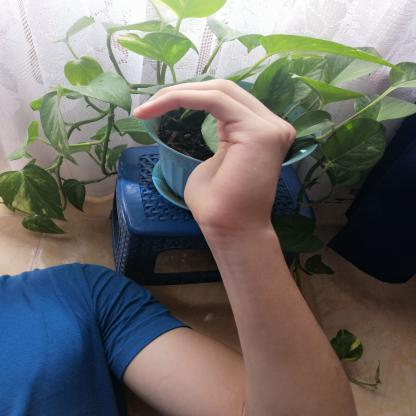HAA: (121, 70, 308, 243)
